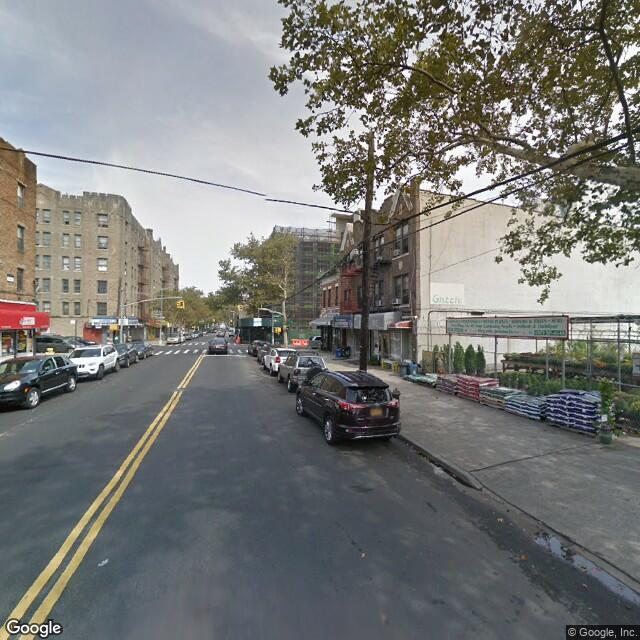litter: (97, 559, 108, 565), (361, 550, 364, 557)
